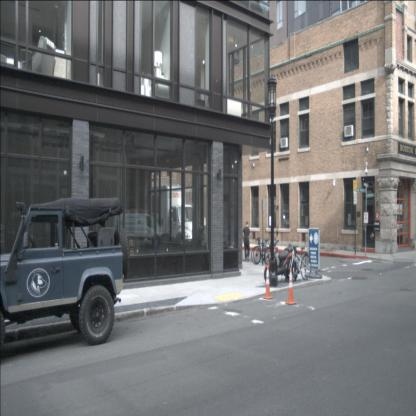human-pedestrian-adult: (242, 221, 252, 263)
movable_object-trafficcone: (285, 268, 297, 305), (263, 265, 273, 298), (161, 247, 167, 272), (172, 254, 178, 272)
vehicle-bicycle: (284, 246, 312, 284), (251, 236, 281, 266), (253, 237, 281, 265)
vehicle-car: (0, 196, 130, 361)
vehicle-motorcycle: (264, 242, 299, 284)
